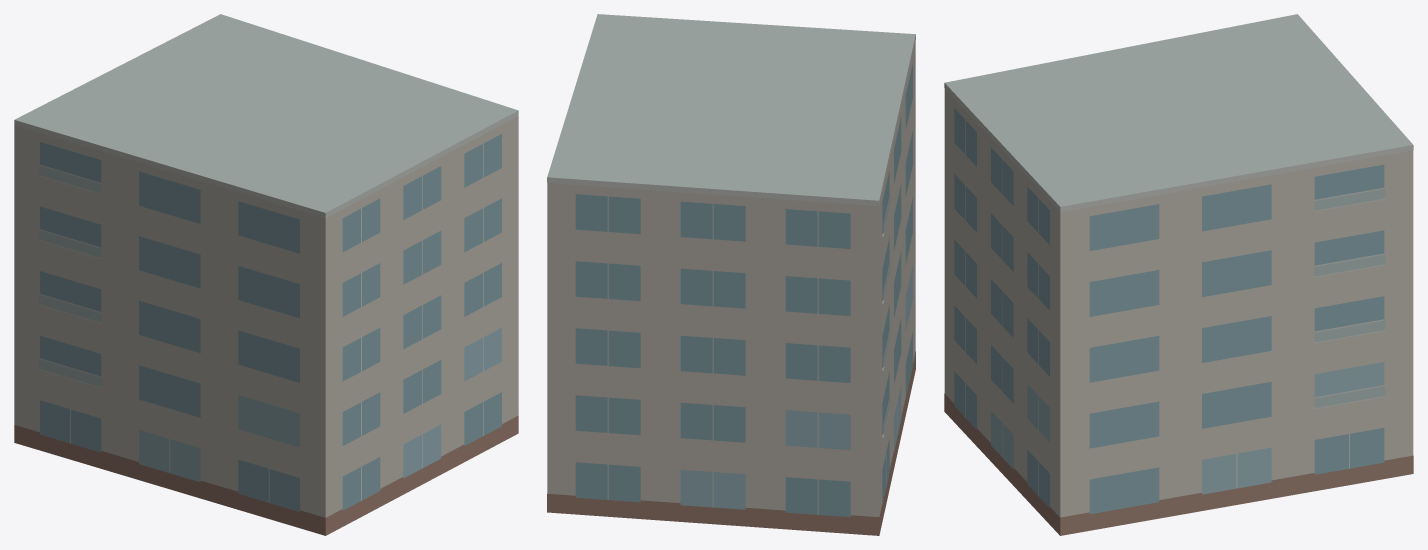
Rendered from survey-upis-33042583.glb.
3 views of the same model, side by side, from view 1: azimuth 30°, elevation 25°; view 2: azimuth 150°, elevation 25°; view 3: azimuth 270°, elevation 25° (orthographic). The views are drawn at different scales.
Visible parts, largest first — view 1: survey-upis-33042583.tmp; view 2: survey-upis-33042583.tmp; view 3: survey-upis-33042583.tmp.
Part boxes in pixels (x1,y1,x2,y2): survey-upis-33042583.tmp: (14,14,518,535); survey-upis-33042583.tmp: (547,14,915,535); survey-upis-33042583.tmp: (944,14,1413,535).
Size of the model in its own units: 18.74 by 14.9 by 19.26.
